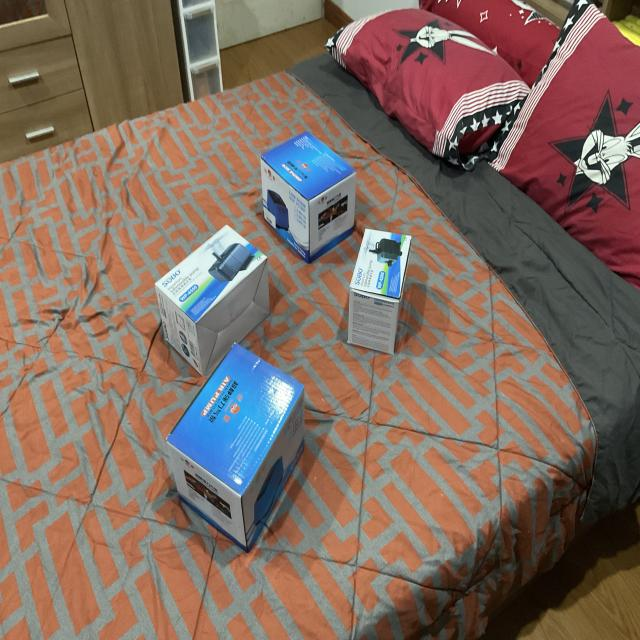SOBO_WP_4200: (155, 217, 274, 371), (344, 226, 425, 370)
YAMANO_LPP_20: (161, 348, 309, 558), (259, 118, 360, 266)
